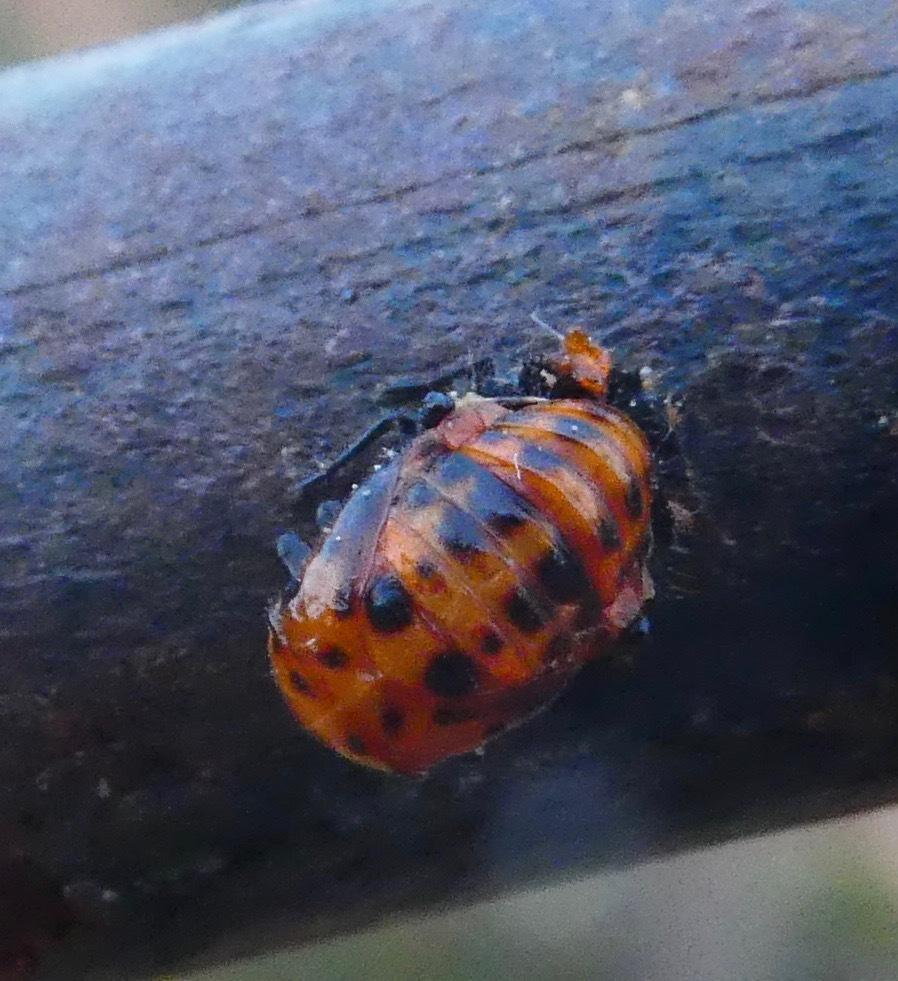ladybug: (259, 329, 691, 791)
